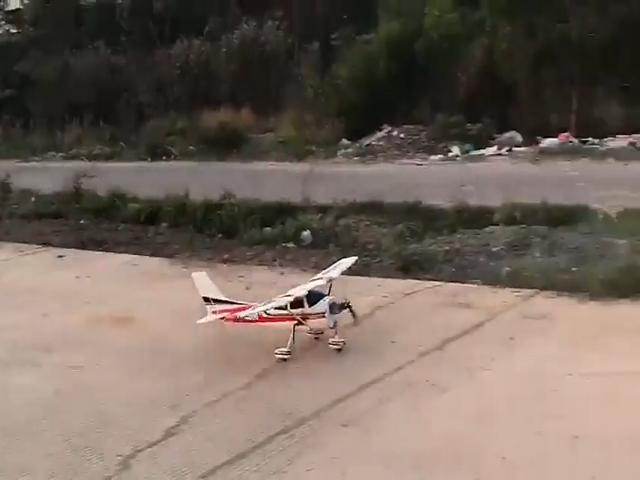plane: (191, 255, 365, 362)
